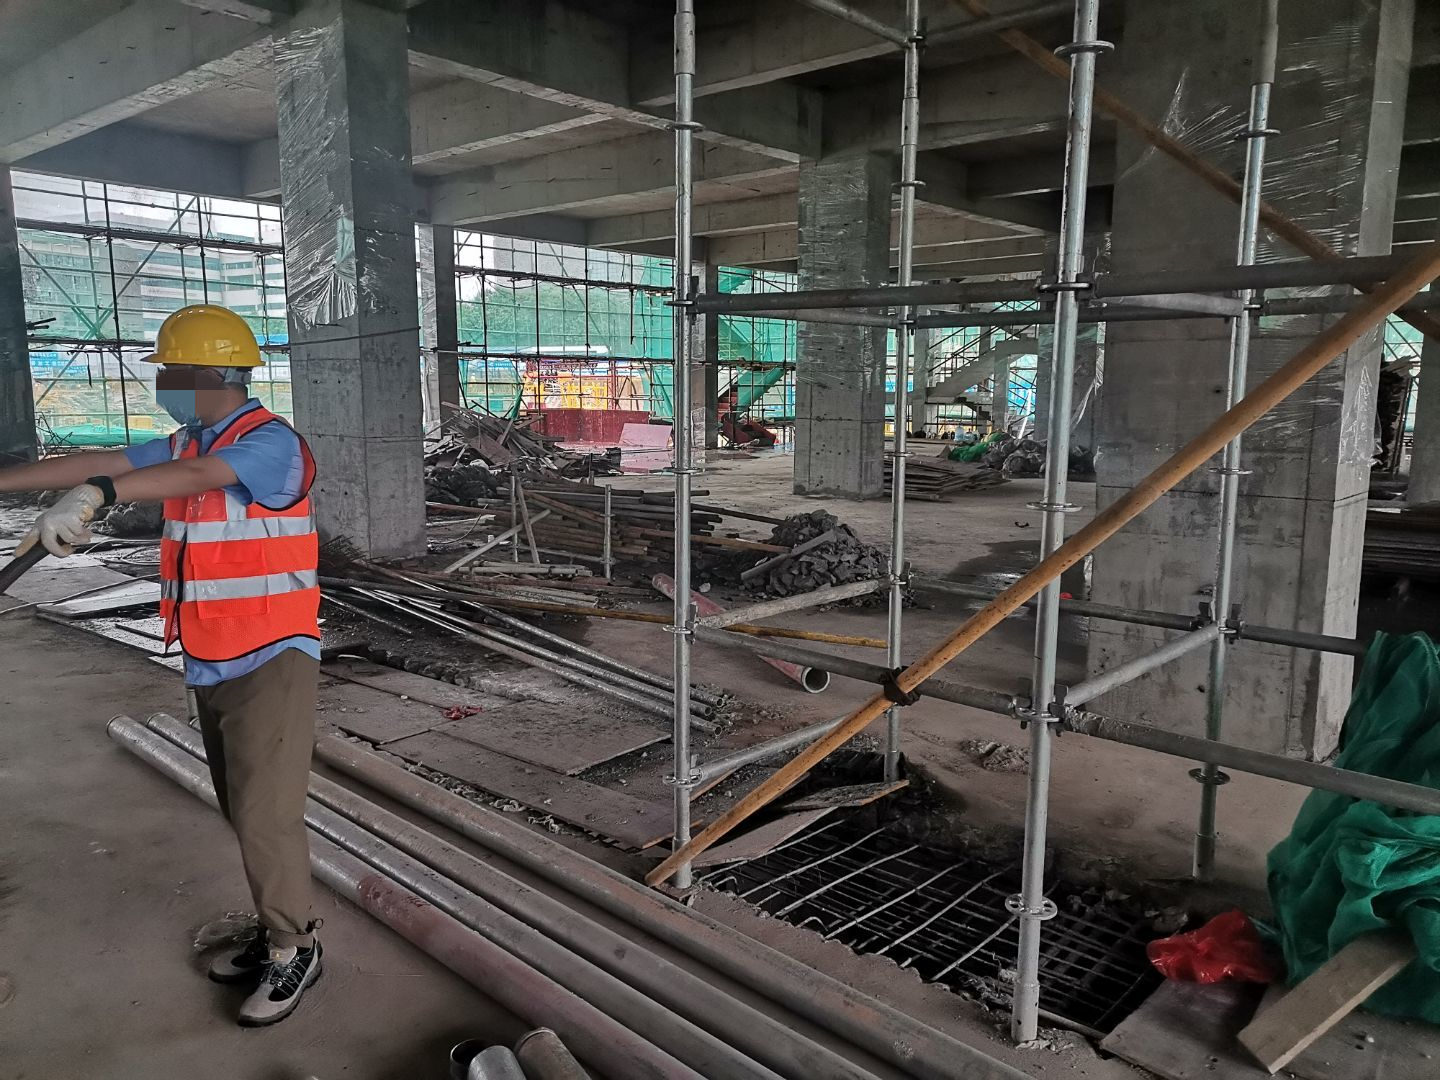fence: (531, 408, 650, 444)
helmet: (143, 301, 268, 374)
person: (8, 299, 355, 1044)
rebar: (151, 700, 1022, 1080), (481, 470, 675, 570)
vest: (152, 424, 323, 662)
